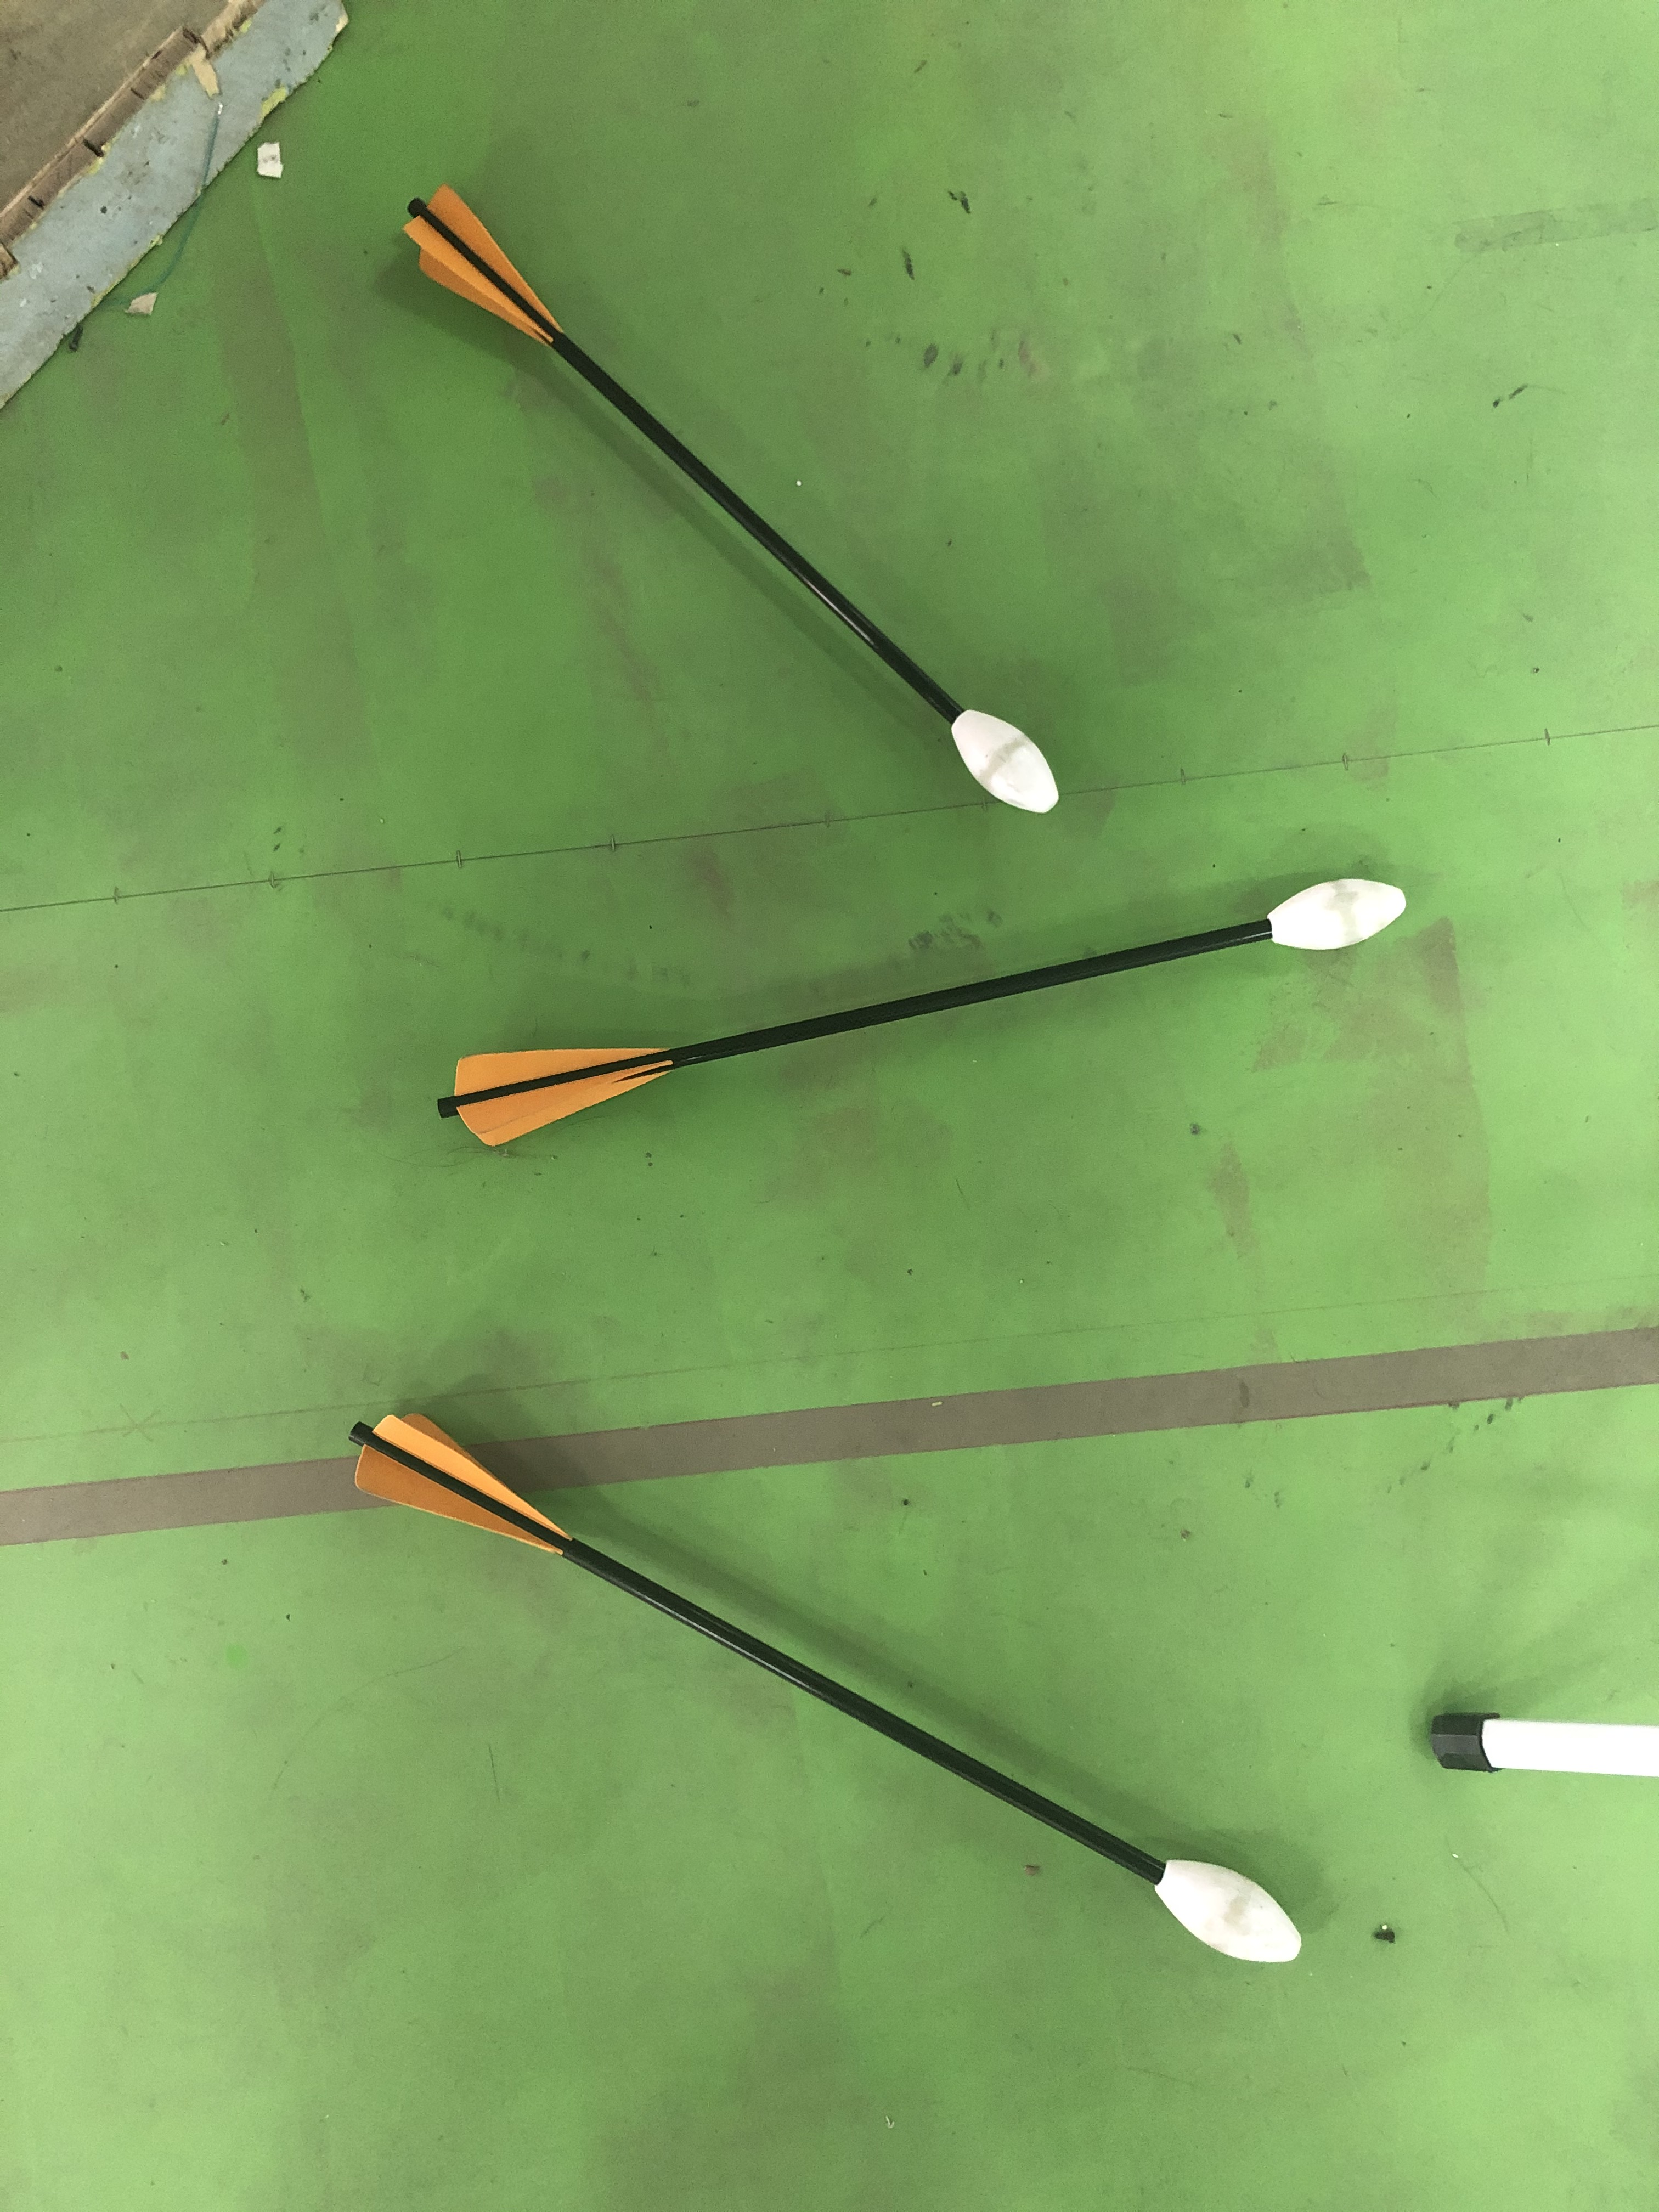arrow: (336, 1399, 1316, 1993), (390, 185, 1091, 826), (423, 862, 1408, 1249)
arrowFront: (1150, 1851, 1307, 1968), (946, 707, 1065, 820), (1267, 873, 1406, 956)
